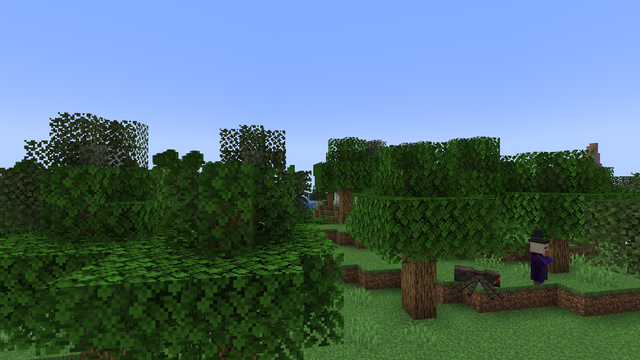araignees: (453, 262, 508, 298)
sorcieres: (526, 238, 551, 287)
